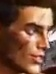kevin: (4, 5, 51, 70)
